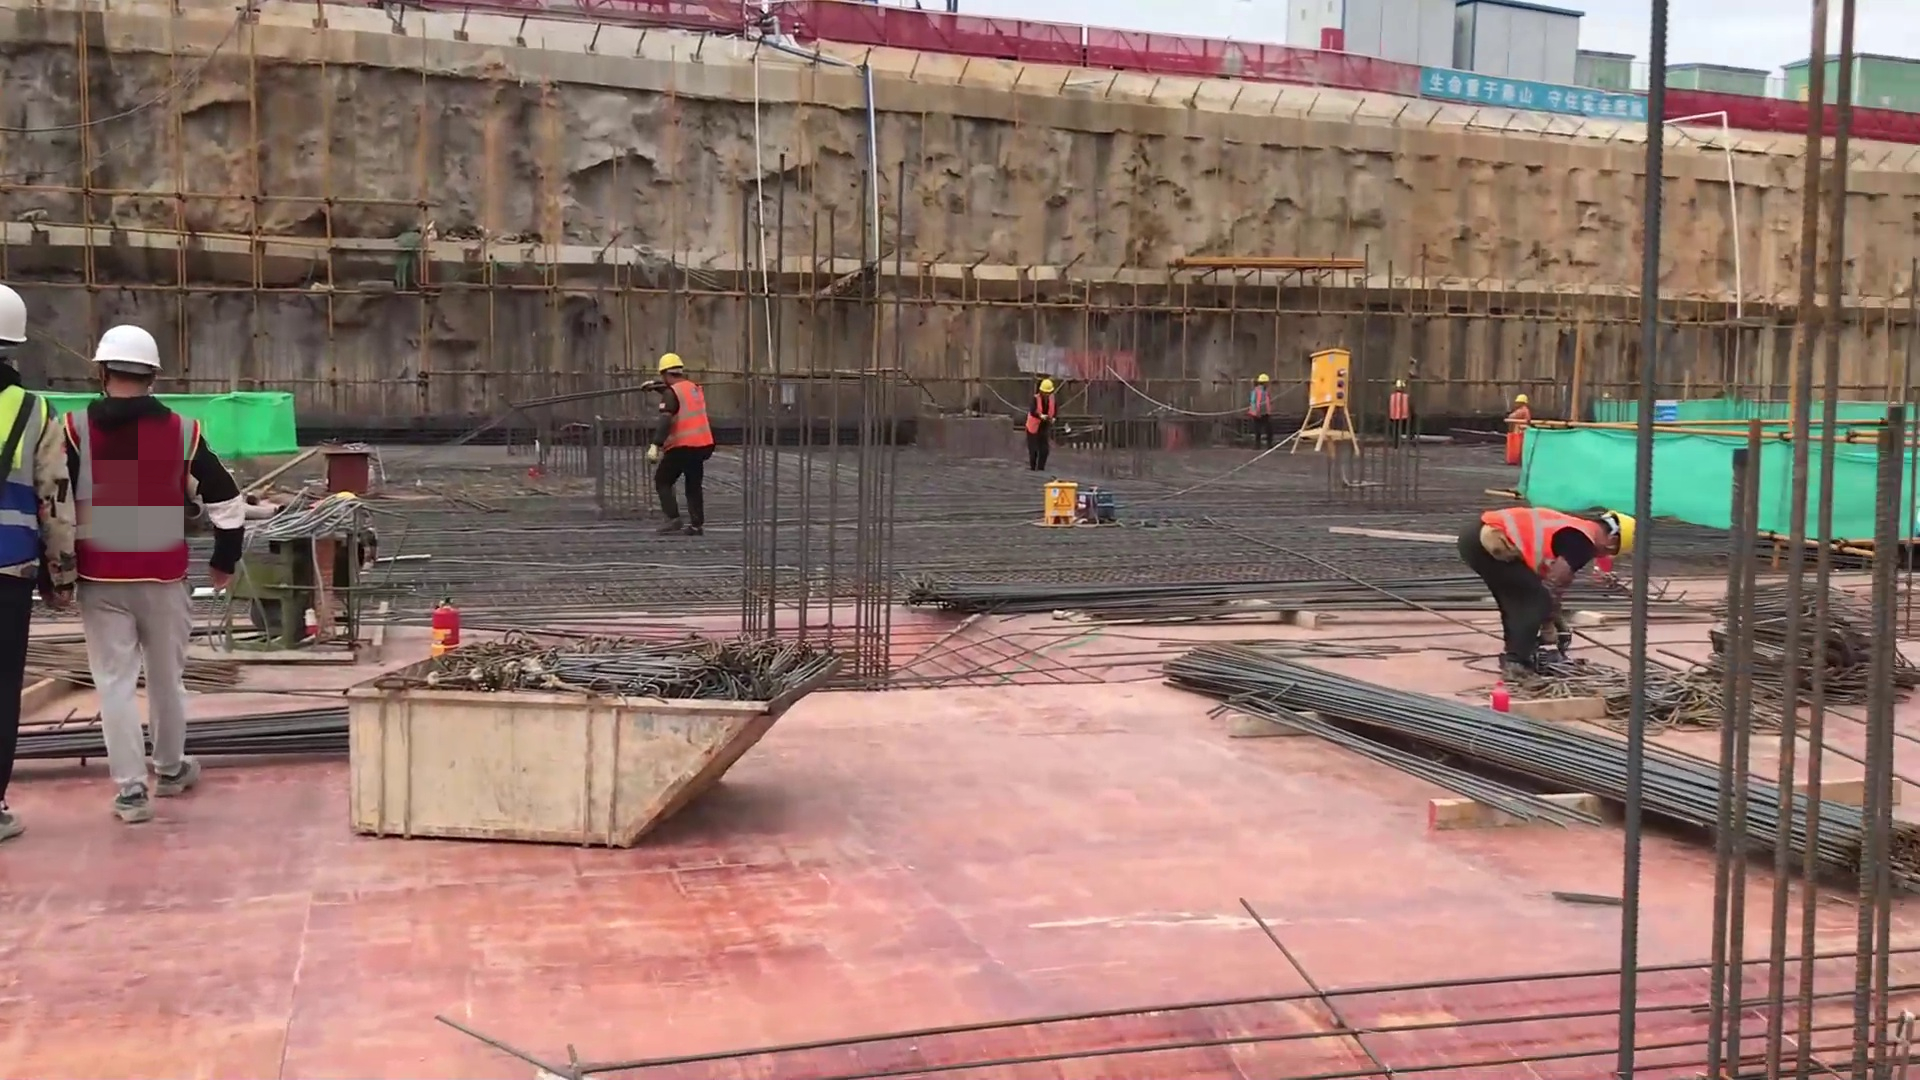ebox: (1311, 359, 1359, 422), (1049, 484, 1074, 519)
fence: (1214, 34, 1916, 149)
helmet: (73, 320, 173, 368), (1, 291, 39, 348), (1612, 509, 1644, 558), (659, 353, 689, 370), (1039, 375, 1054, 396), (1256, 369, 1273, 385), (1510, 393, 1529, 403), (1396, 378, 1410, 393)
hopper: (338, 647, 798, 842)
person: (84, 286, 211, 845), (1446, 470, 1659, 665), (1, 281, 68, 860), (634, 333, 726, 543), (1503, 386, 1563, 486), (1021, 355, 1071, 471), (1378, 365, 1436, 466), (1236, 371, 1284, 468)
rebar: (919, 568, 1705, 611), (1, 684, 350, 768), (1662, 752, 1871, 887), (1274, 657, 1472, 772)
slogan: (559, 354, 698, 484), (1441, 66, 1643, 112)
vest: (88, 398, 203, 578), (1, 381, 43, 586), (1492, 503, 1609, 572), (661, 380, 711, 453), (1024, 396, 1059, 432), (1248, 386, 1276, 419), (1389, 392, 1412, 419), (1507, 406, 1533, 419)
